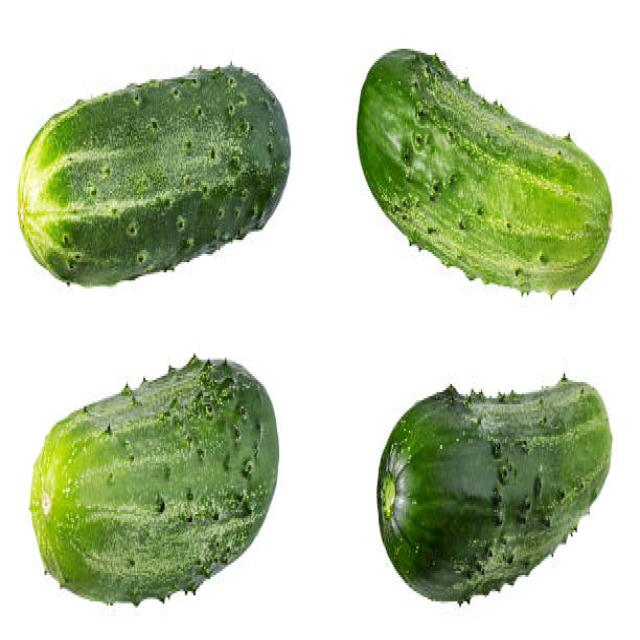cucumber: (357, 45, 612, 296), (30, 357, 280, 608), (17, 63, 292, 286), (376, 377, 614, 605)
